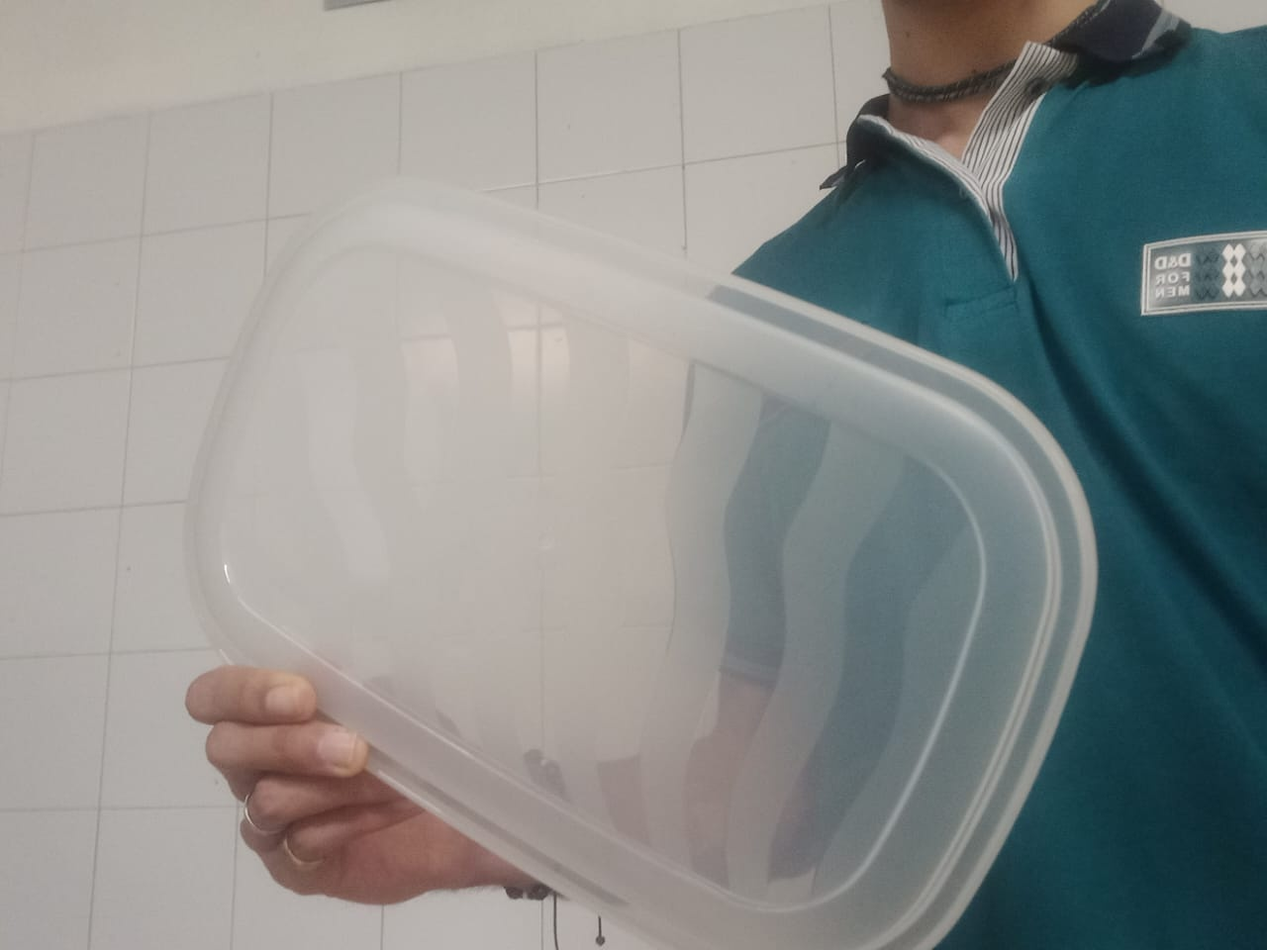Plastico: (180, 183, 1097, 950)
